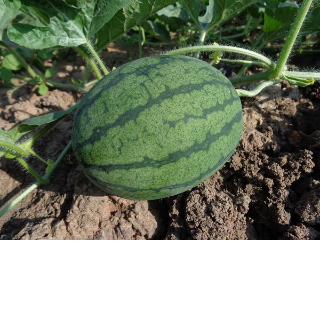dua_hau: (65, 50, 244, 205)
